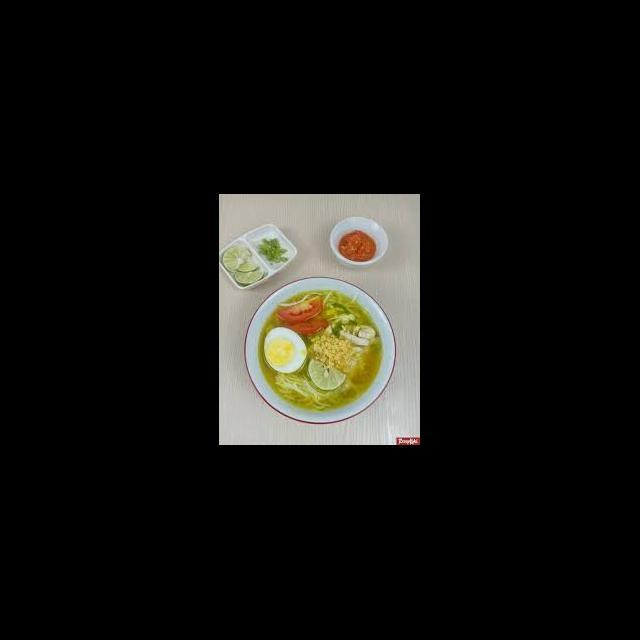Soto: (245, 276, 393, 422)
